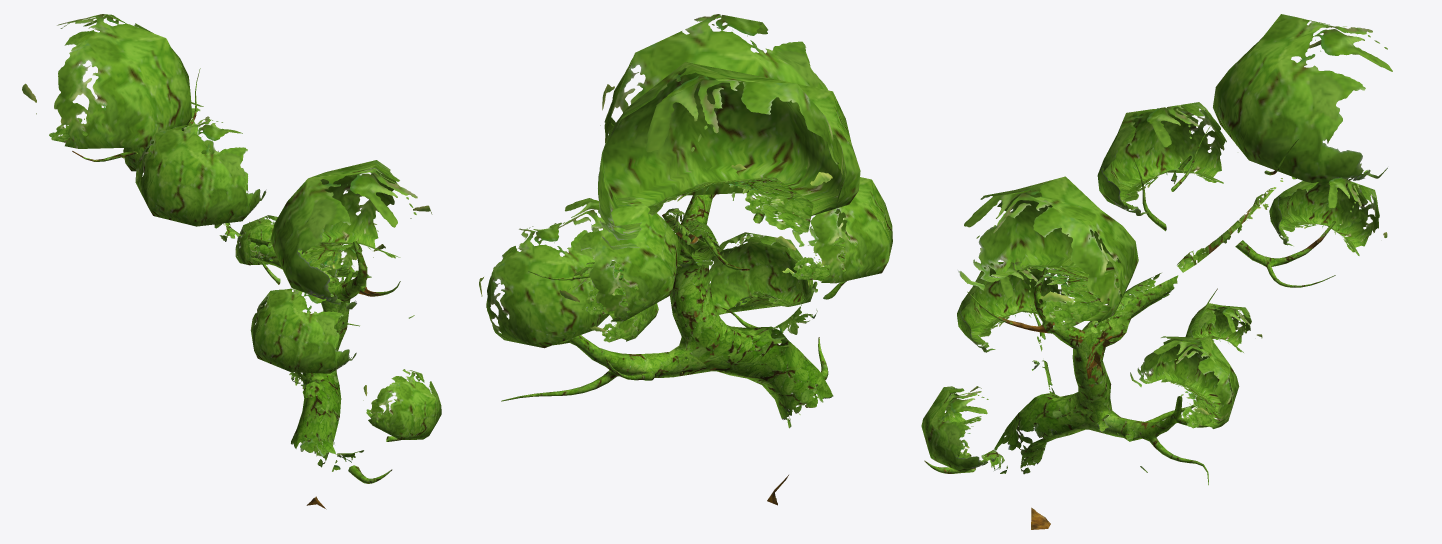
File: tree.obj
3 renders of one model, left to right at view 1: azimuth 30°, elevation 25°; view 2: azimuth 150°, elevation 25°; view 3: azimuth 270°, elevation 25°, orthographic. The views are drawn at different scales.
Parts seen in each view (by area): view 1: bark_Mesh.008; view 2: bark_Mesh.008; view 3: bark_Mesh.008.
Part boxes in pixels (box(x1,y1,x2,y2)): bark_Mesh.008: box(22, 14, 441, 509); bark_Mesh.008: box(479, 14, 892, 505); bark_Mesh.008: box(921, 14, 1392, 529).
Bounding box in the file's own units: 0.2974 × 0.3719 × 0.3734.
